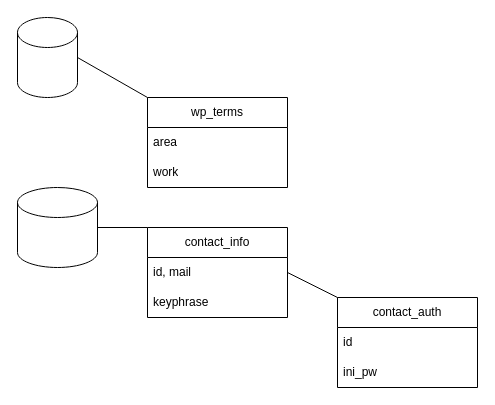
Some shapes in this 495 by 405 pixel diagram are drawn without their labels. The centre of each missing label's shape, as x and y in pixels:
"my_contact" goes at pixel 57 227.
"my_form" goes at pixel 47 57.
